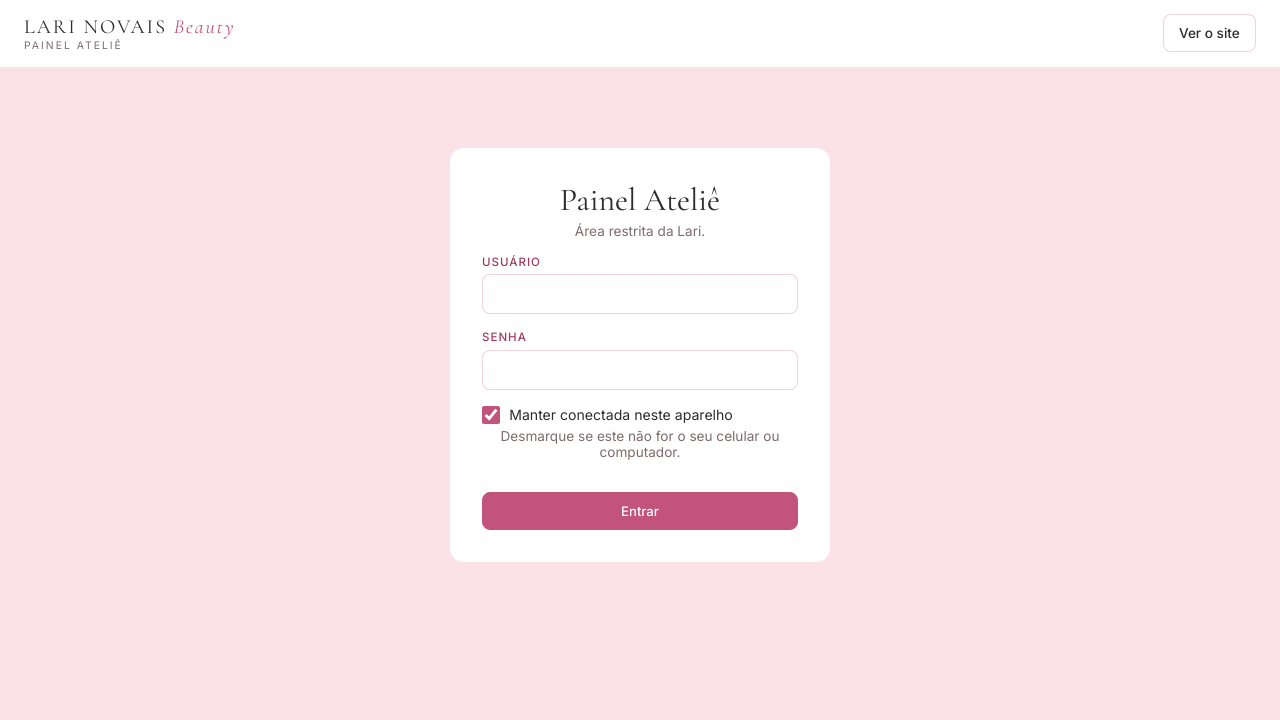
Scenario: Painel Ateliê › entra, lista o pedido em análise e aprova com o token
This screenshot has width=1280, height=720.
Type "lari" into the field labelled "Usuário".
click(640, 294); type("lari")  # box [482,274,798,314]
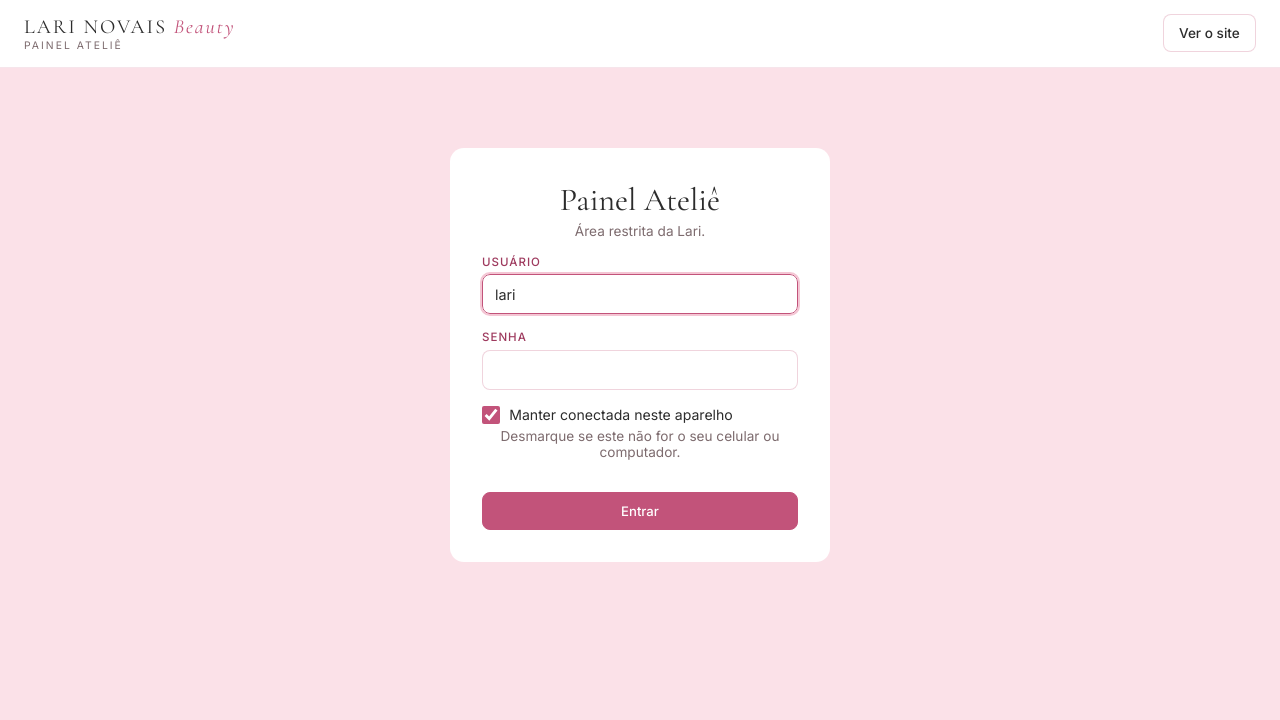
Type "segredo" into the password field labelled "Senha".
click(640, 370); type("segredo")  # box [482,350,798,390]
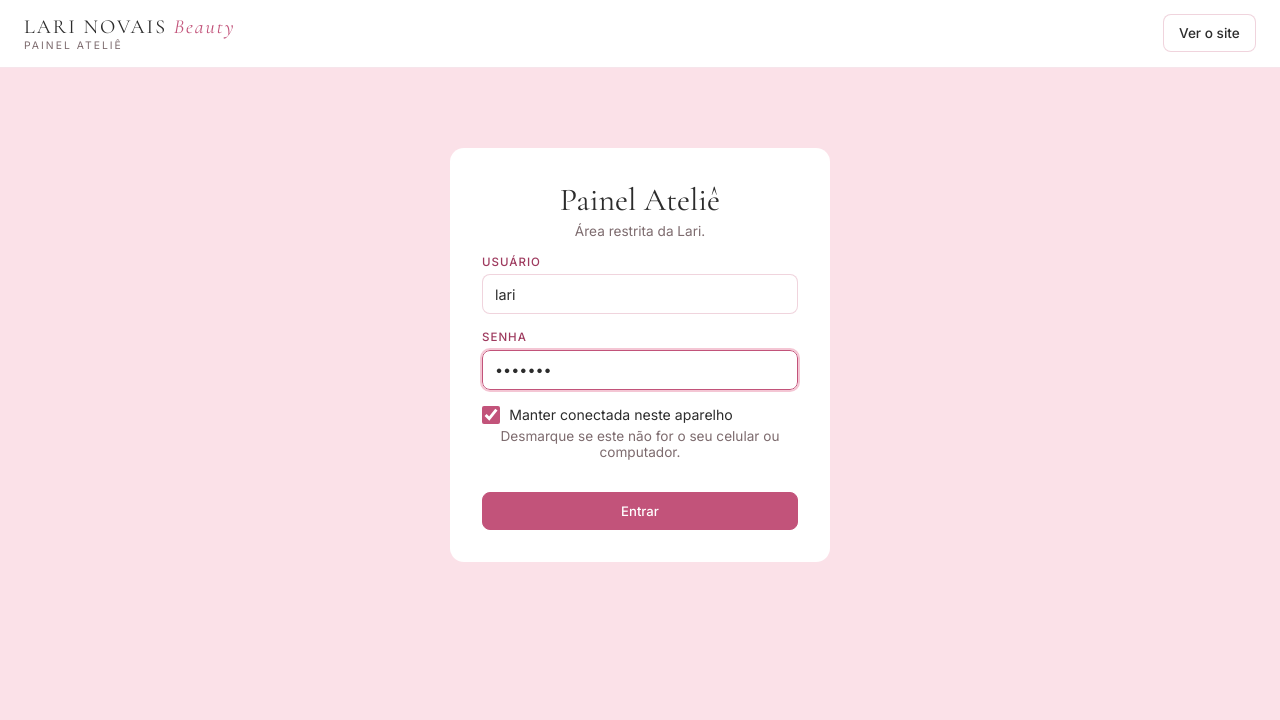
Click the button "Entrar".
click(640, 511)  # box [482,492,798,530]
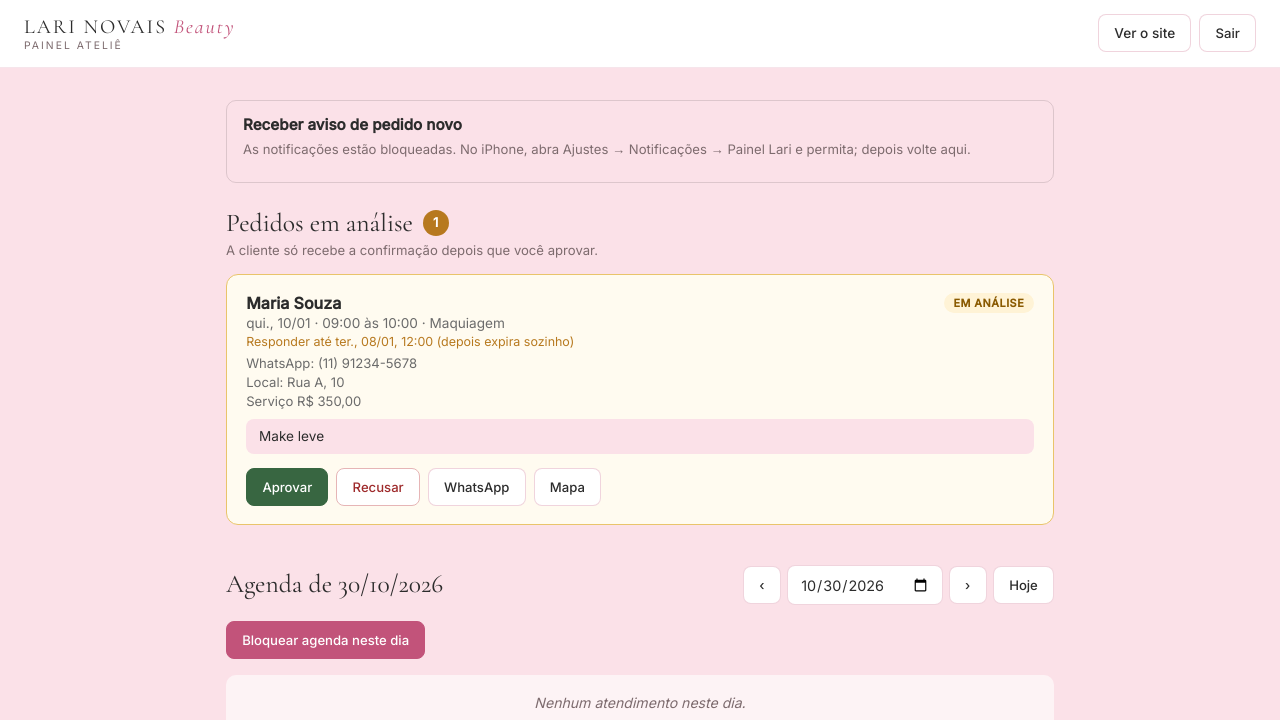
expect the heading "Maria Souza" is shown: met, box [246,293,341,313]
expect the text "Em análise" is shown: met, box [944,293,1034,313]
expect the text "Responder até ter., 08/01, 12:00 (depois expira sozinho)" is shown: met, box [246,334,574,348]
Click the button "Aprovar".
click(287, 488)  # box [246,468,328,506]
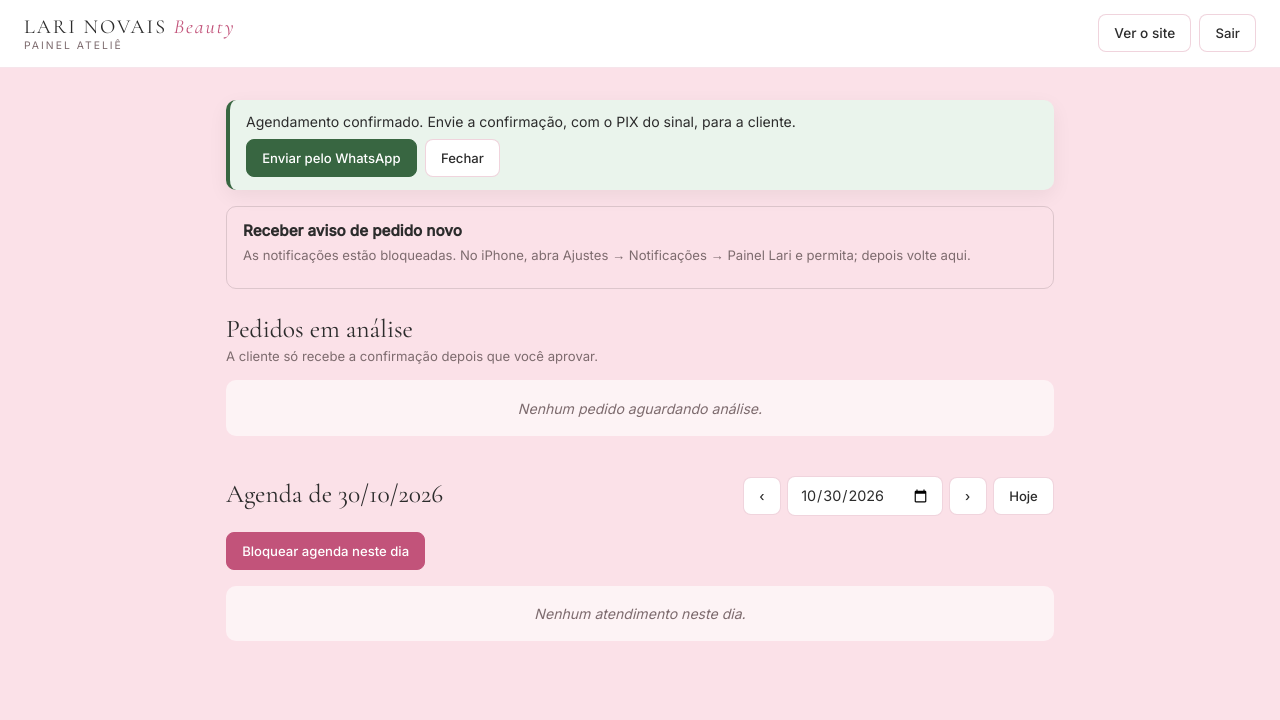
expect the text "Agendamento confirmado" is shown: met, box [246,113,796,130]
expect the text "Nenhum pedido aguardando análise." is shown: met, box [226,380,1054,436]
